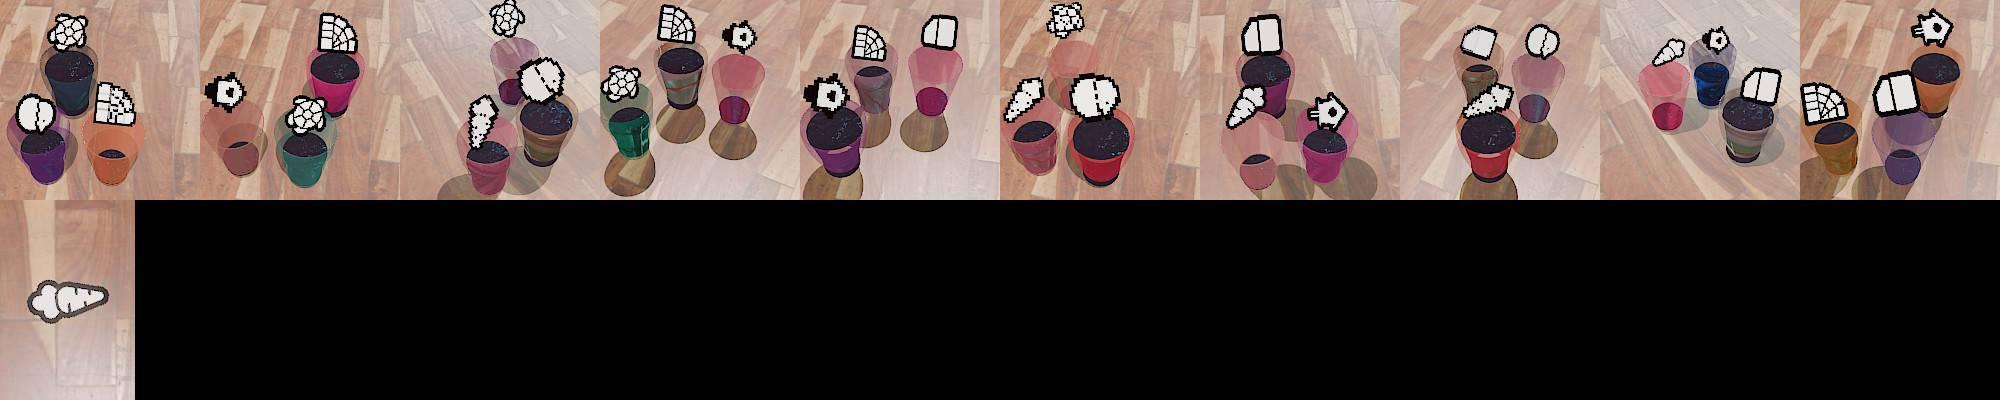icon: (26, 279, 111, 324), (1066, 74, 1121, 118), (517, 56, 566, 103), (1871, 70, 1918, 117), (1302, 89, 1352, 132), (93, 79, 136, 127), (1460, 82, 1515, 120), (1003, 75, 1045, 124), (1800, 79, 1848, 121), (466, 92, 499, 150), (203, 71, 249, 113), (804, 74, 849, 115), (284, 93, 328, 135), (14, 92, 57, 134), (1240, 13, 1283, 55), (1911, 8, 1955, 48), (1226, 85, 1267, 129), (318, 11, 358, 55), (657, 3, 698, 45), (1739, 66, 1782, 106), (601, 64, 642, 103), (1046, 1, 1085, 41), (849, 23, 888, 61), (48, 13, 88, 50), (1459, 24, 1499, 61), (489, 0, 526, 39), (1524, 23, 1561, 60), (921, 14, 958, 51), (721, 19, 759, 54), (1651, 37, 1685, 69), (1700, 24, 1731, 54)
